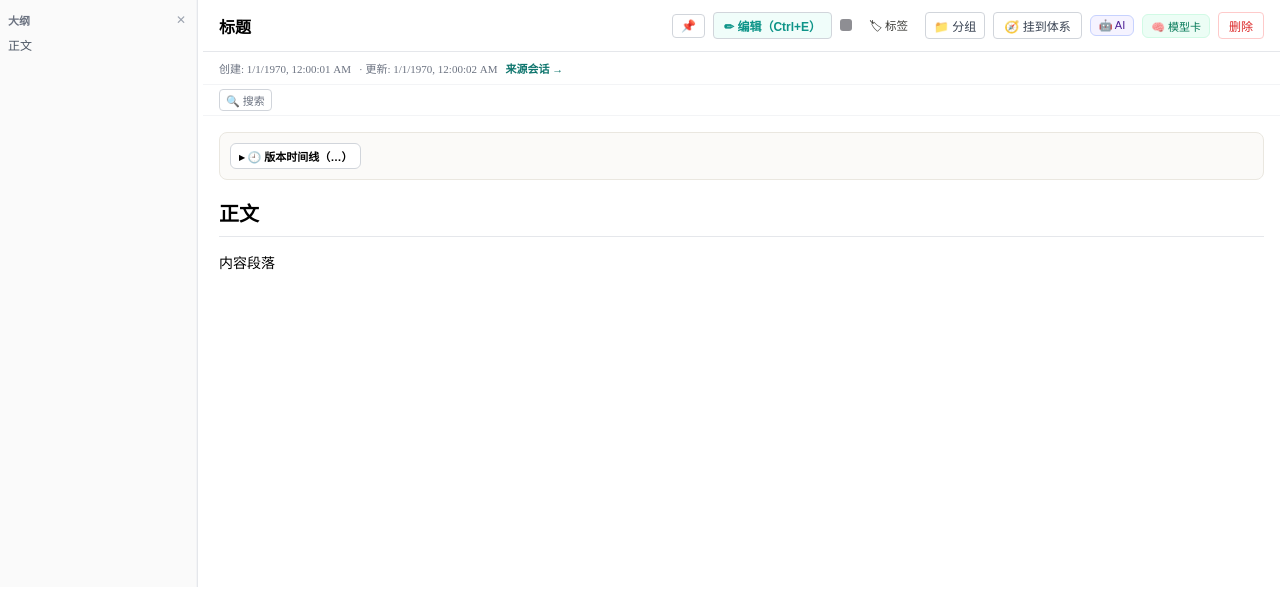
大纲列接线（批 3 T8） › ④ 展开态的 ✕「收起大纲」仍折叠（收起语义不许被 expand() 取代）
Expected: the element with test id "outline-panel" is shown, [0,0,197,587]
What coordinates should you click on to do the following:
click the button titled "收起大纲"
I would click on:
 (181, 20)
Its box is [174,14,188,26].
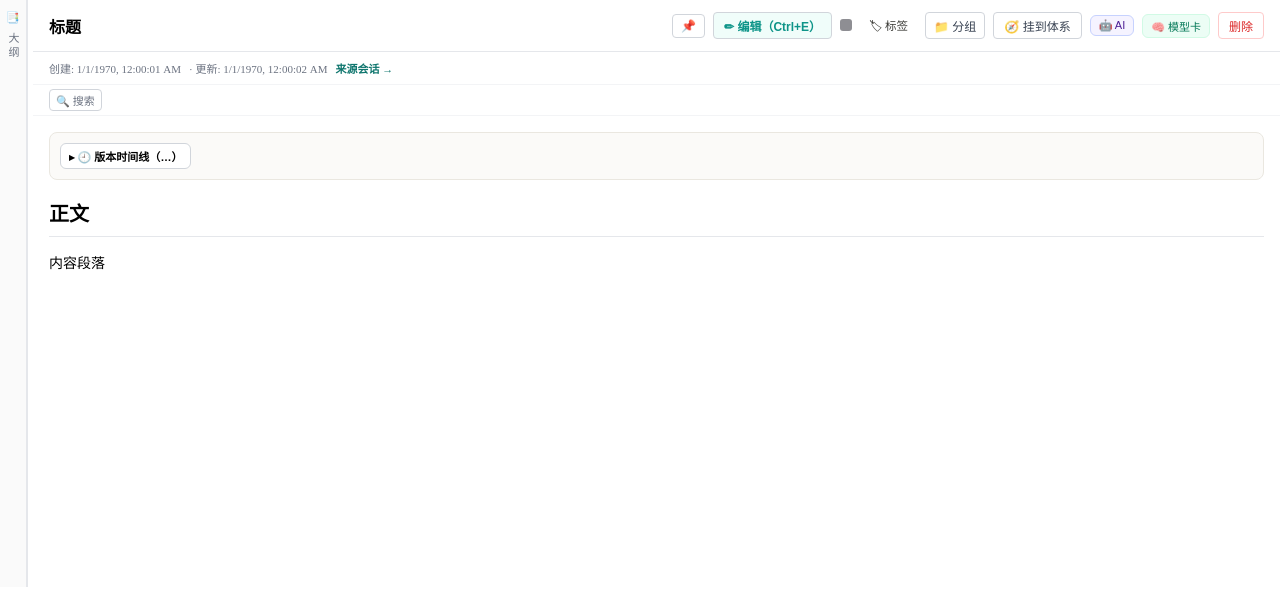
Result: the element with test id "column-bar" is shown at [0,0,27,587]
Result: the element with test id "outline-panel" is gone
